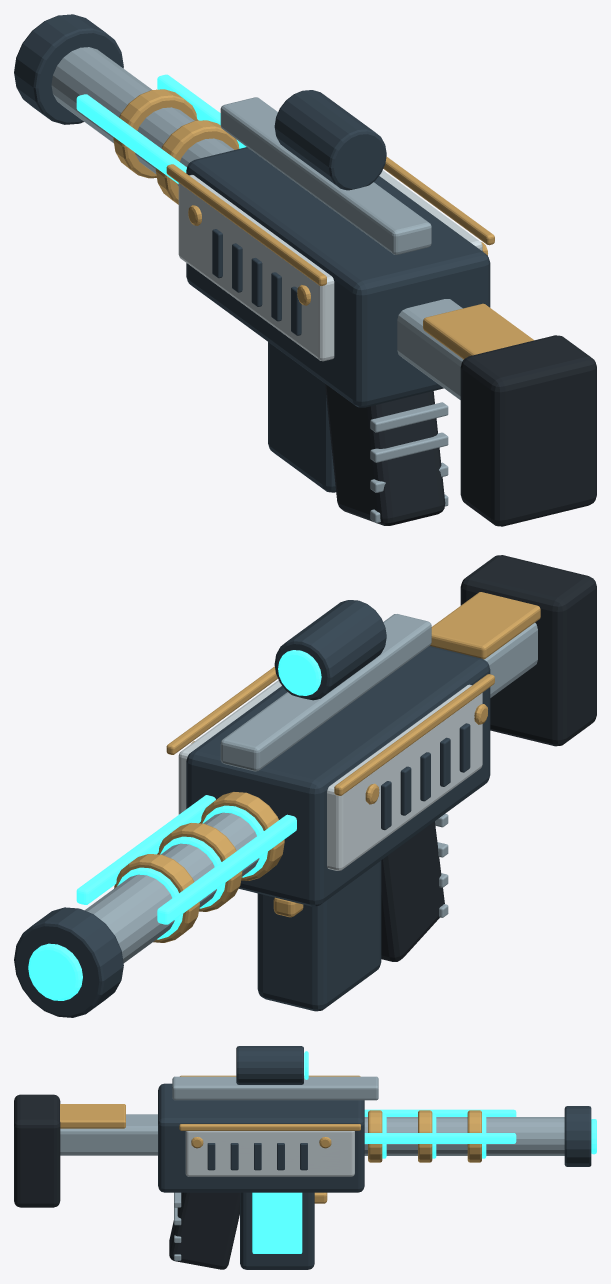
3 views of the same model, one above another, from view 1: azimuth 30°, elevation 25°; view 2: azimuth 150°, elevation 25°; view 3: azimuth 270°, elevation 25° (orthographic). The views are drawn at different scales.
Visible parts, largest first — view 1: ZW4_ar; view 2: ZW4_ar; view 3: ZW4_ar.
Part boxes in pixels (x1,y1,x2,y2): ZW4_ar: (14, 14, 596, 526); ZW4_ar: (14, 555, 596, 1017); ZW4_ar: (14, 1046, 596, 1269).
Size of the model in its own units: 0.35 by 0.6654 by 1.64.
